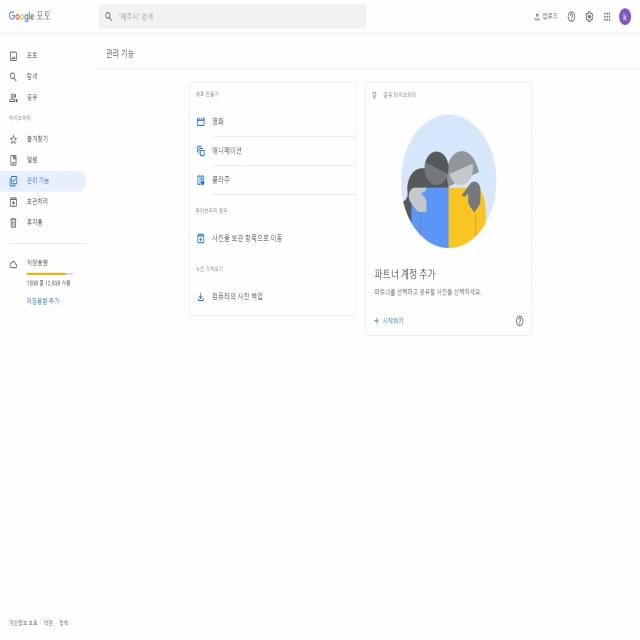menu-bar: (528, 2, 636, 30)
side-panel: (0, 33, 96, 639)
